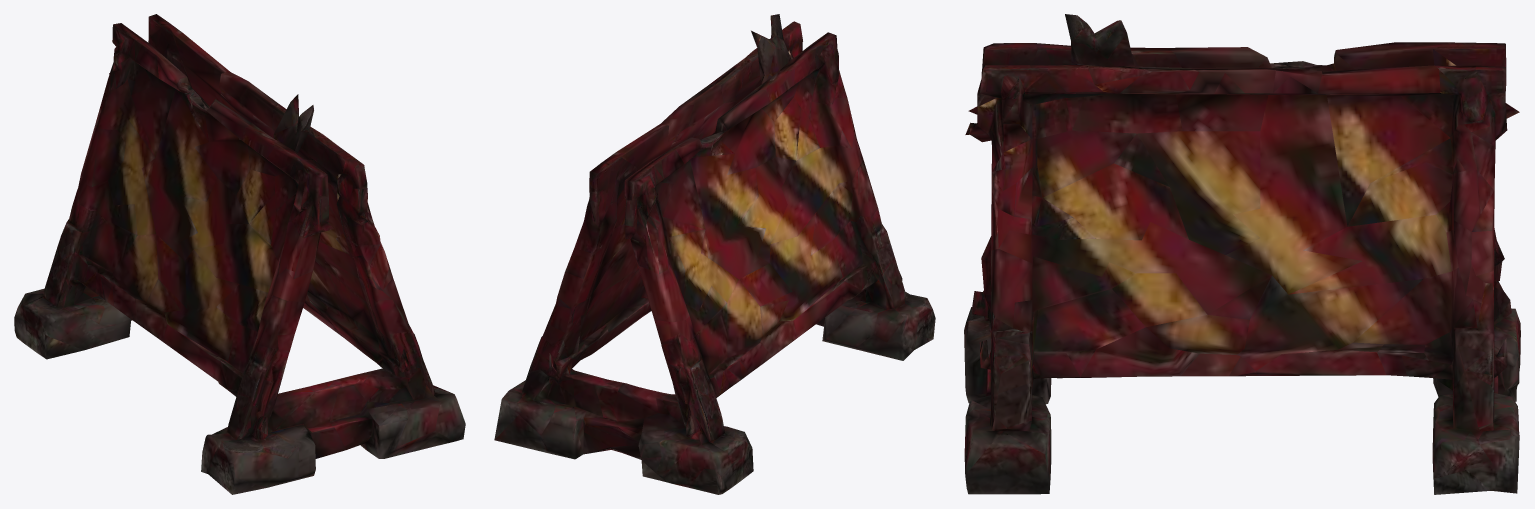
File: barricade.glb
3 renders of one model, left to right at view 1: azimuth 30°, elevation 25°; view 2: azimuth 150°, elevation 25°; view 3: azimuth 270°, elevation 25°, orthographic. The views are drawn at different scales.
Size of the model in its own units: 116 by 156 by 190.
Materials: 1 (1 with a texture image).
